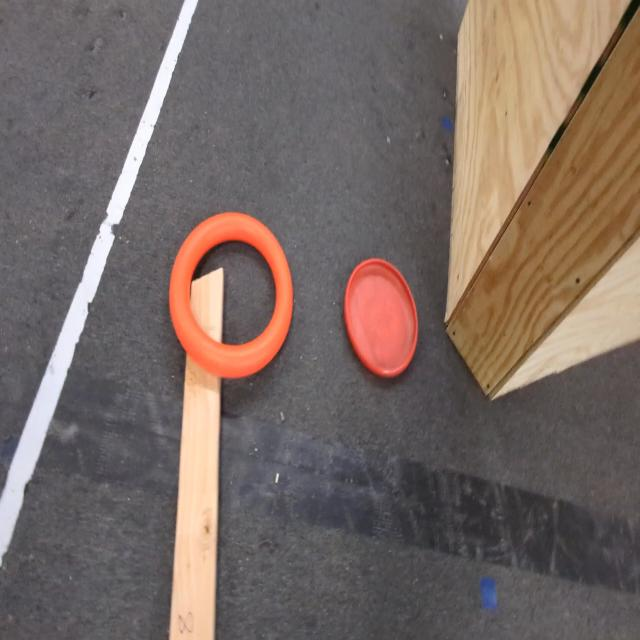note: (174, 215, 297, 378)
